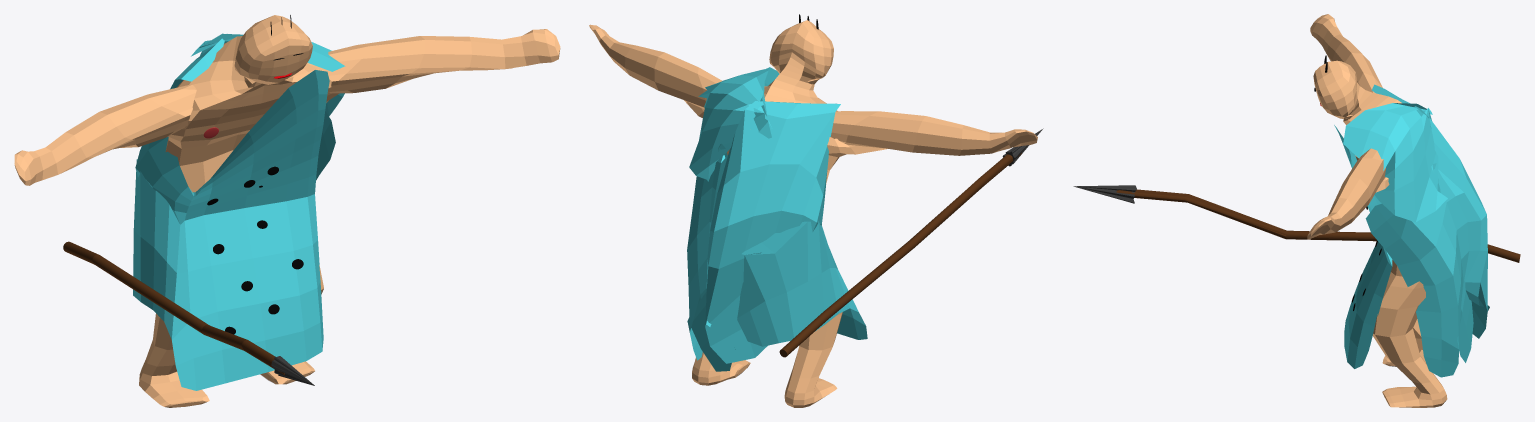
File: pravěk_boss.fbx
3 renders of one model, left to right at view 1: azimuth 30°, elevation 25°; view 2: azimuth 150°, elevation 25°; view 3: azimuth 270°, elevation 25°, orthographic. The views are drawn at different scales.
Parts seen in each view (by area): view 1: Plane, Cube, Cylinder; view 2: Plane, Cube, Cylinder; view 3: Plane, Cube, Cylinder.
Part boxes in pixels (x1=…): Plane: x1=133, y1=33, x2=345, y2=390; Cube: x1=14, y1=15, x2=560, y2=407; Cylinder: x1=63, y1=241, x2=314, y2=385; Plane: x1=687, y1=67, x2=867, y2=371; Cube: x1=589, y1=20, x2=1037, y2=407; Cylinder: x1=779, y1=128, x2=1043, y2=357; Plane: x1=1334, y1=84, x2=1489, y2=377; Cube: x1=1307, y1=14, x2=1447, y2=407; Cylinder: x1=1073, y1=185, x2=1520, y2=262.
Bounding box in the file's own units: 456 × 329 × 411.
